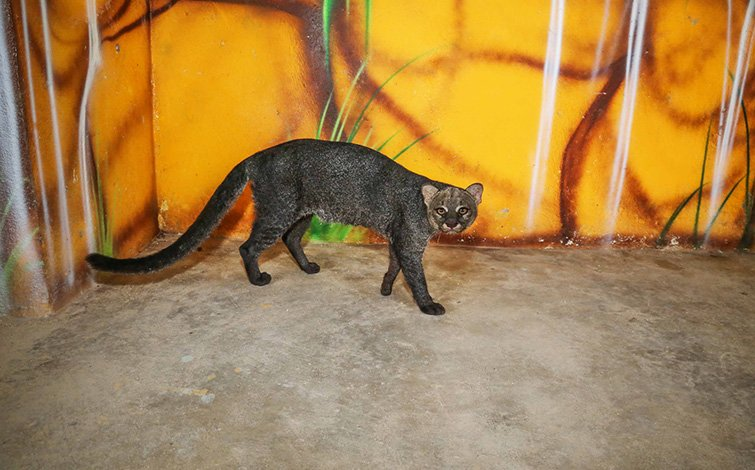Jaguarundi: (77, 129, 487, 319)
